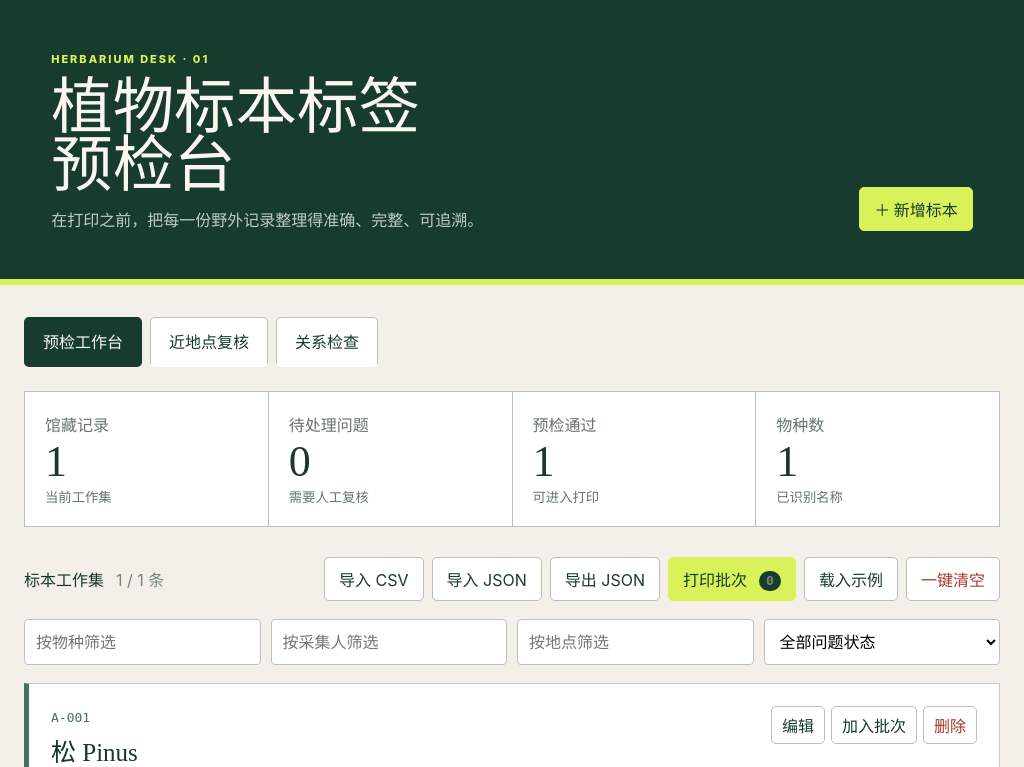
Scenario: 编辑撤销主链路 › 后续编辑替换旧快照，撤销只回到最近一次保存前
Click the button "编辑".
click(798, 725)  # box [771, 706, 825, 744]
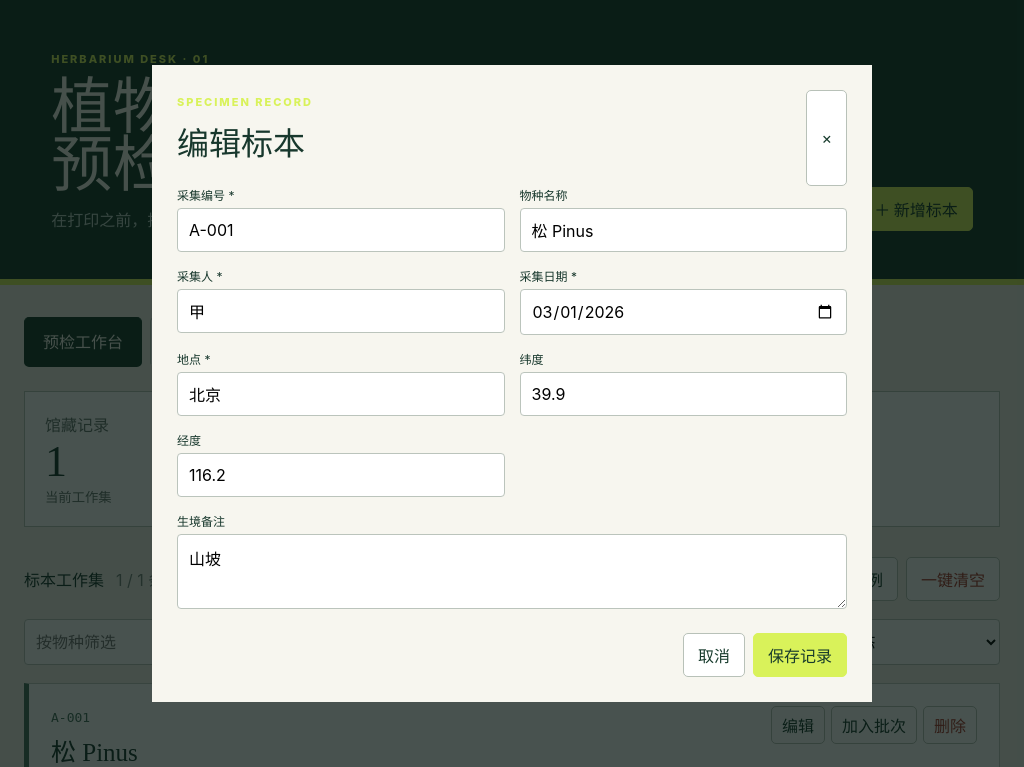
Replace the text in the field labelled "地点 *" with "上海" at (341, 394), box [177, 372, 504, 416]
Click the button "保存记录".
click(800, 654)  # box [753, 632, 847, 676]
(page scrolled)
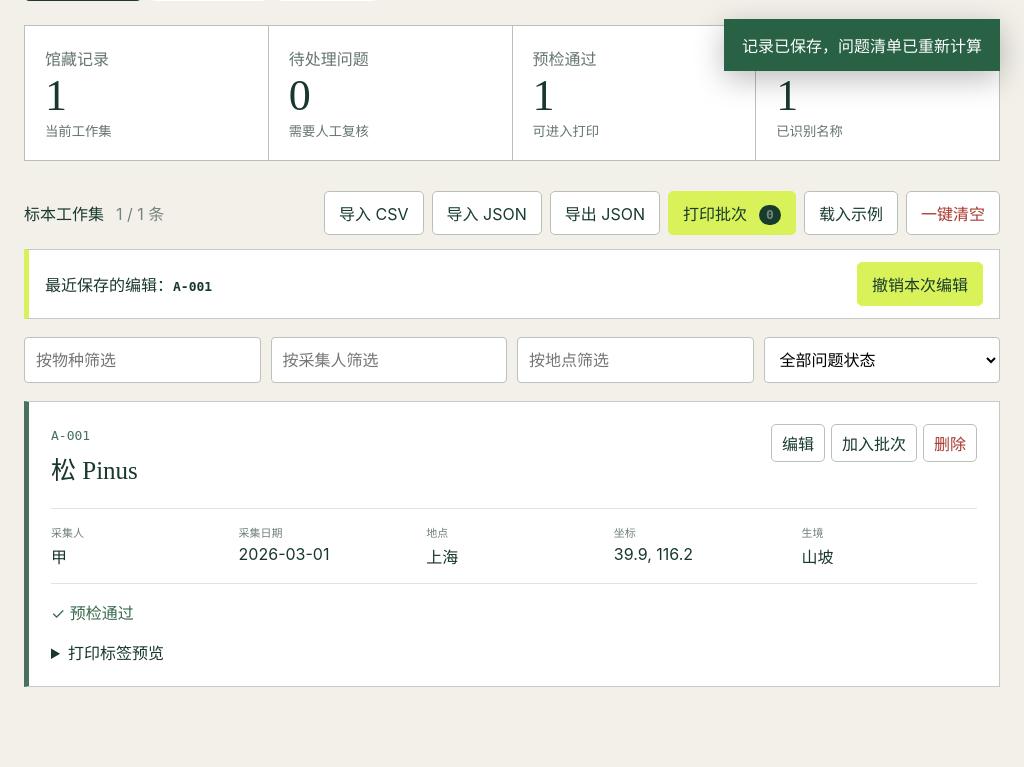
Expected: the button "撤销本次编辑" is shown, [857, 262, 983, 306]
Click the button "编辑".
click(798, 443)  # box [771, 424, 825, 462]
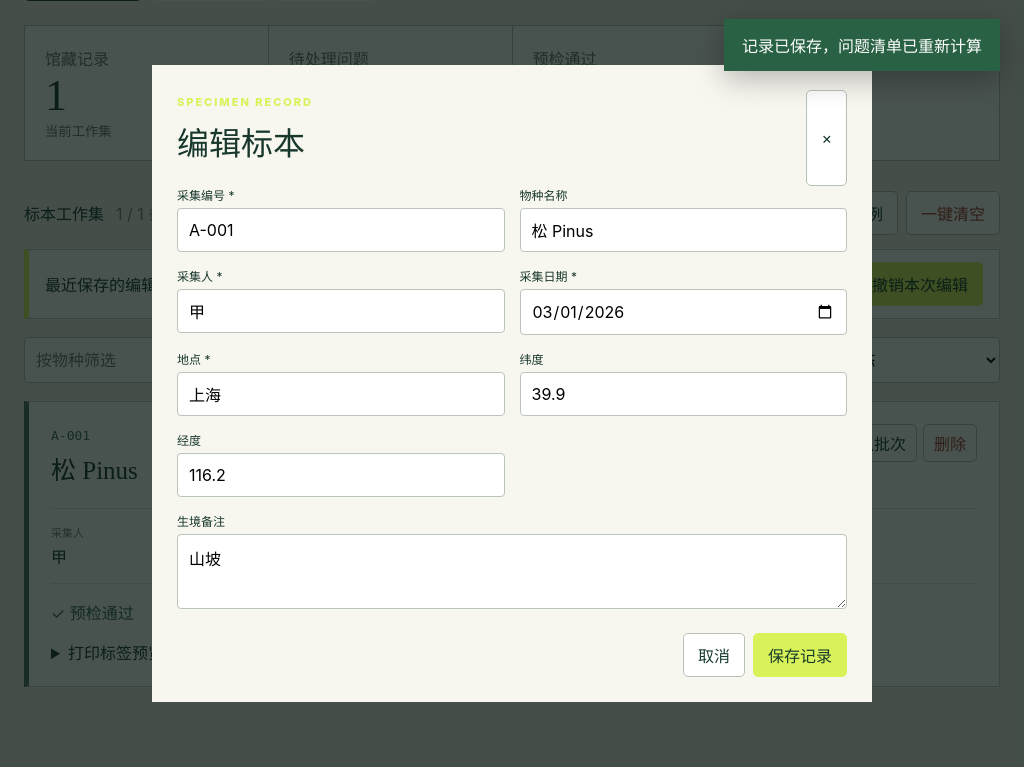
Replace the text in the field labelled "地点 *" with "广州" at (341, 394), box [177, 372, 504, 416]
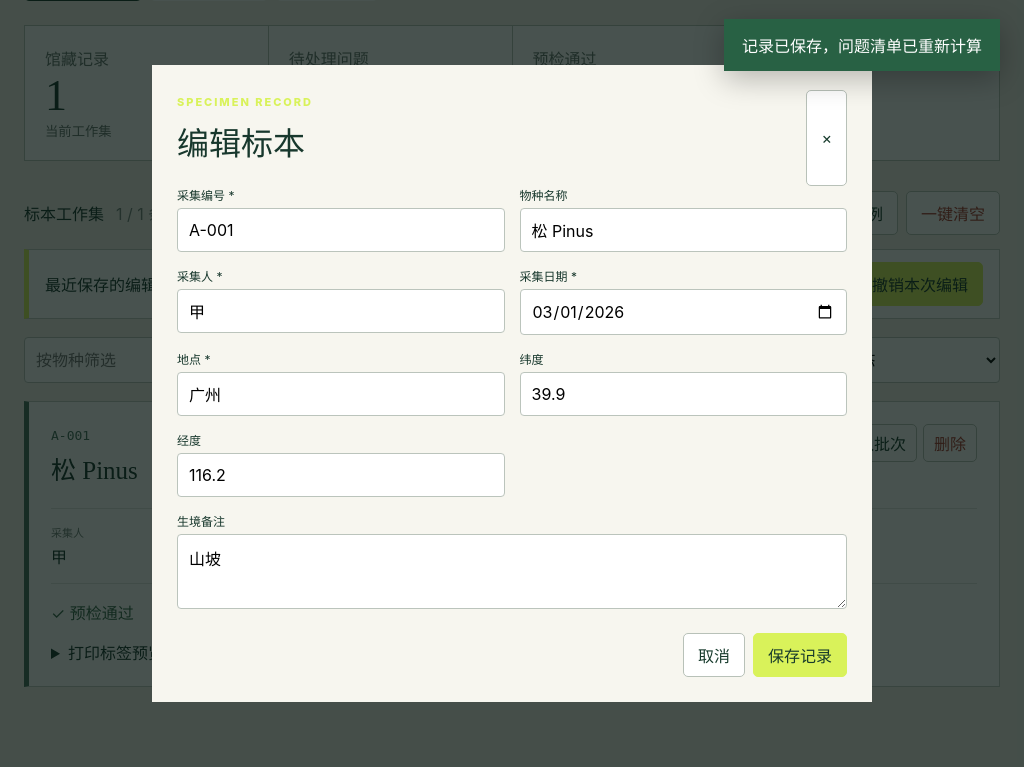
Click the button "保存记录".
click(800, 654)  # box [753, 632, 847, 676]
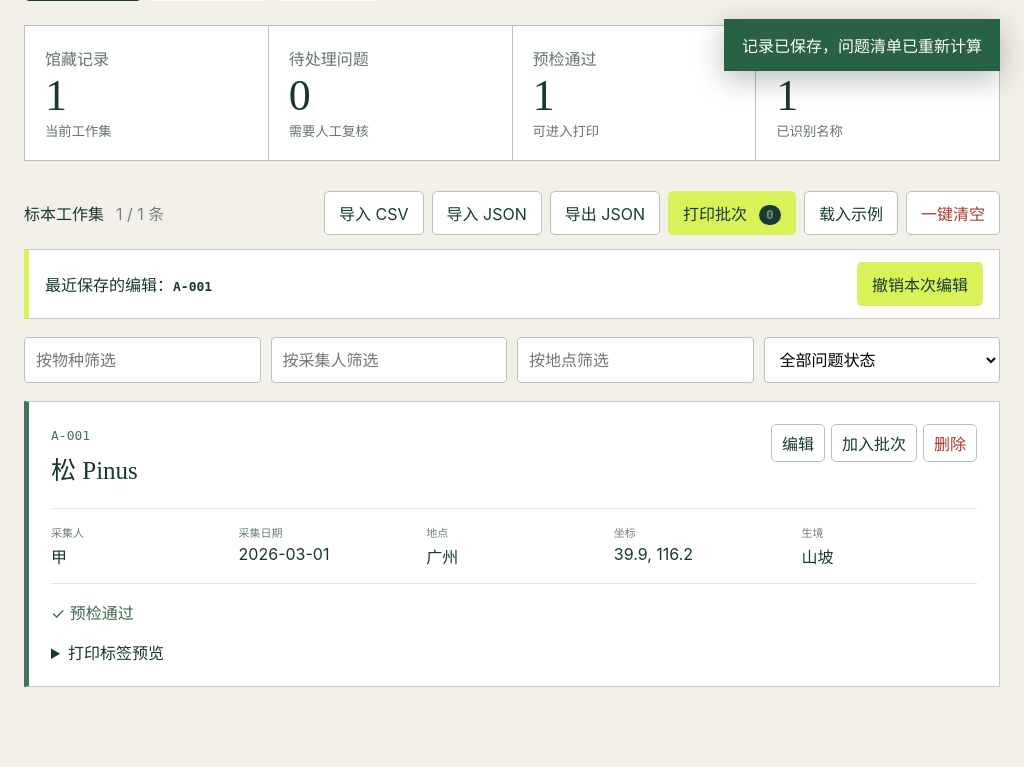
Click the button "撤销本次编辑".
click(920, 284)  # box [857, 262, 983, 306]
(page scrolled)
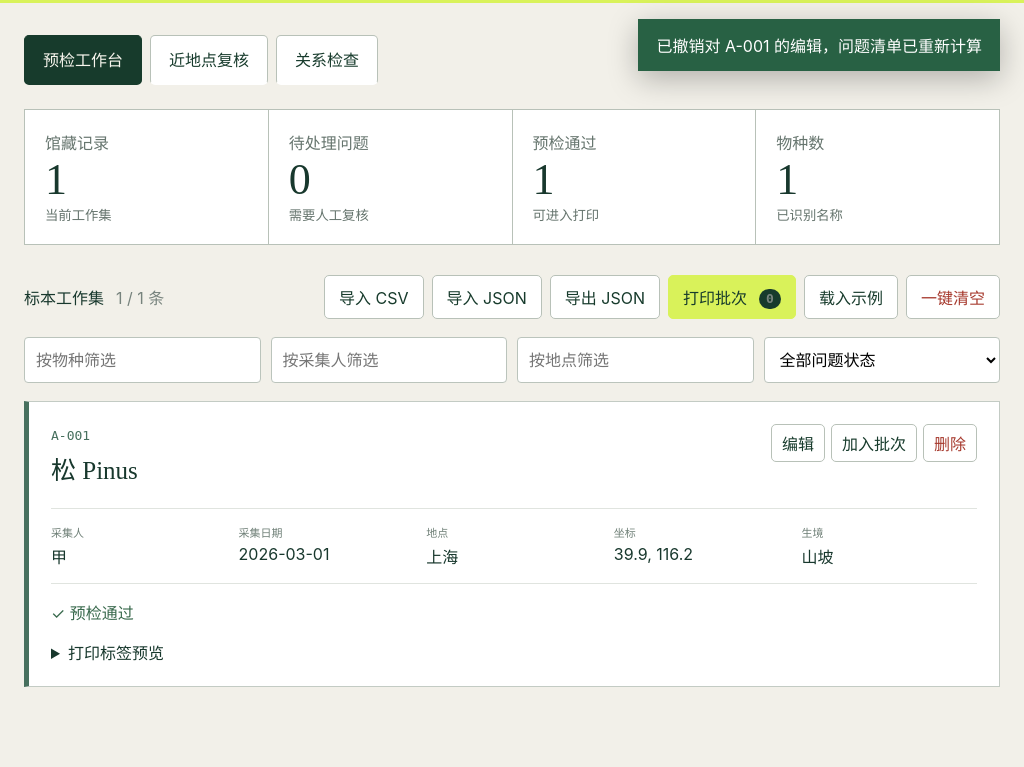
Expected: the text "上海" is shown, [426, 547, 458, 567]
Expected: the text "广州" is gone
